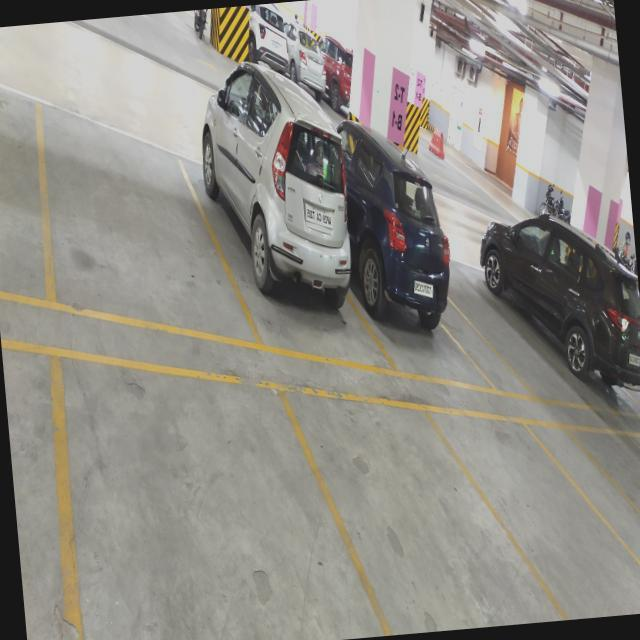car: (258, 206, 354, 342), (372, 218, 442, 363), (532, 278, 626, 378)
free: (51, 377, 310, 640), (335, 421, 469, 638), (52, 158, 210, 301), (504, 448, 598, 624), (0, 139, 54, 282), (484, 273, 538, 403), (595, 433, 640, 569)
